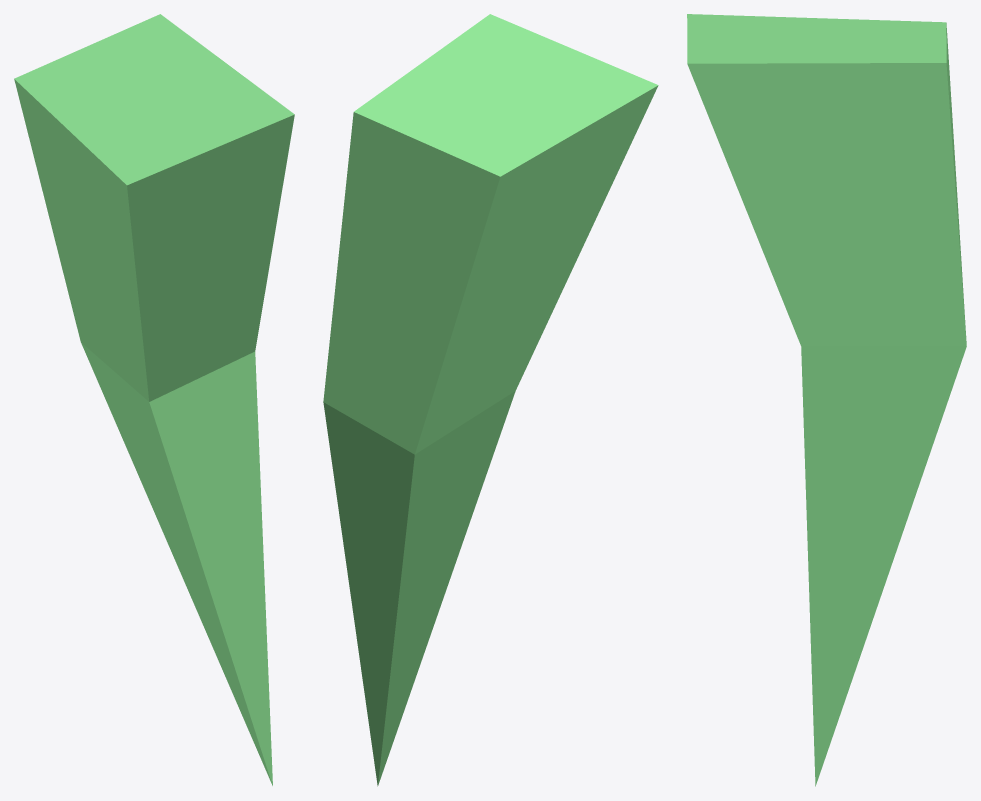
Rendered from Troll Stalagmite 3.FBX.
The picture shows the model from 3 angles, left to right: view 1: azimuth 30°, elevation 25°; view 2: azimuth 150°, elevation 25°; view 3: azimuth 270°, elevation 25°; orthographic projection. The views are drawn at different scales.
Visible parts, largest first — view 1: Object004; view 2: Object004; view 3: Object004.
Boxes of the visible parts, x1,y1,x2,y2 form: Object004: [14, 14, 294, 785]; Object004: [323, 14, 658, 786]; Object004: [687, 14, 966, 786].
Bounding box in the file's own units: 135 × 445 × 161.
